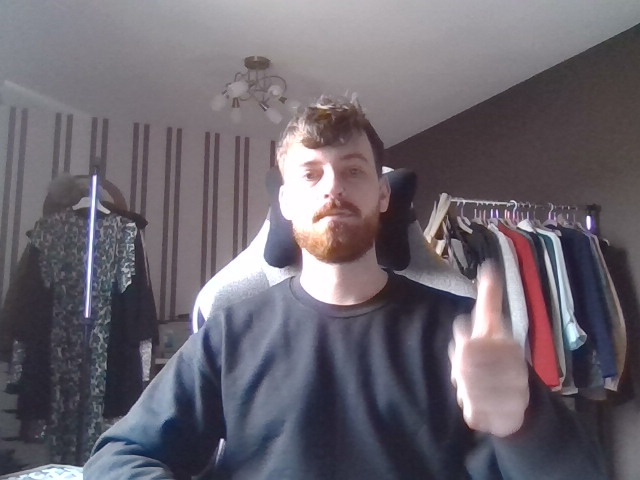Thumbs Up: (448, 254, 540, 446)
